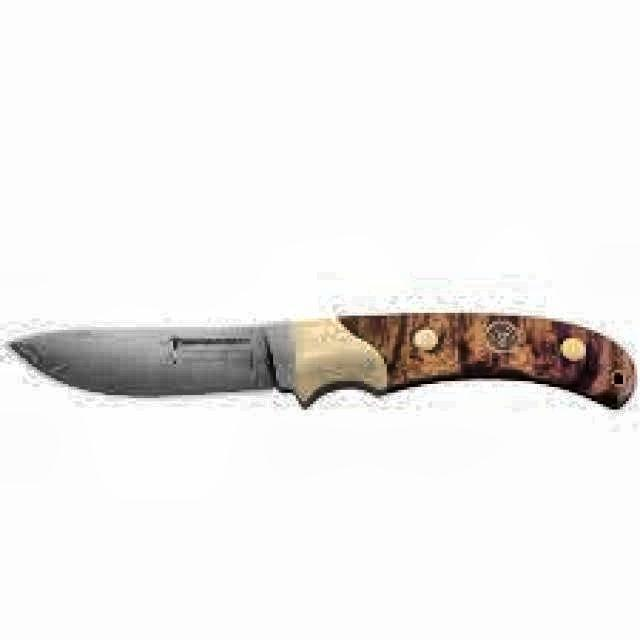knife: (8, 307, 640, 418)
